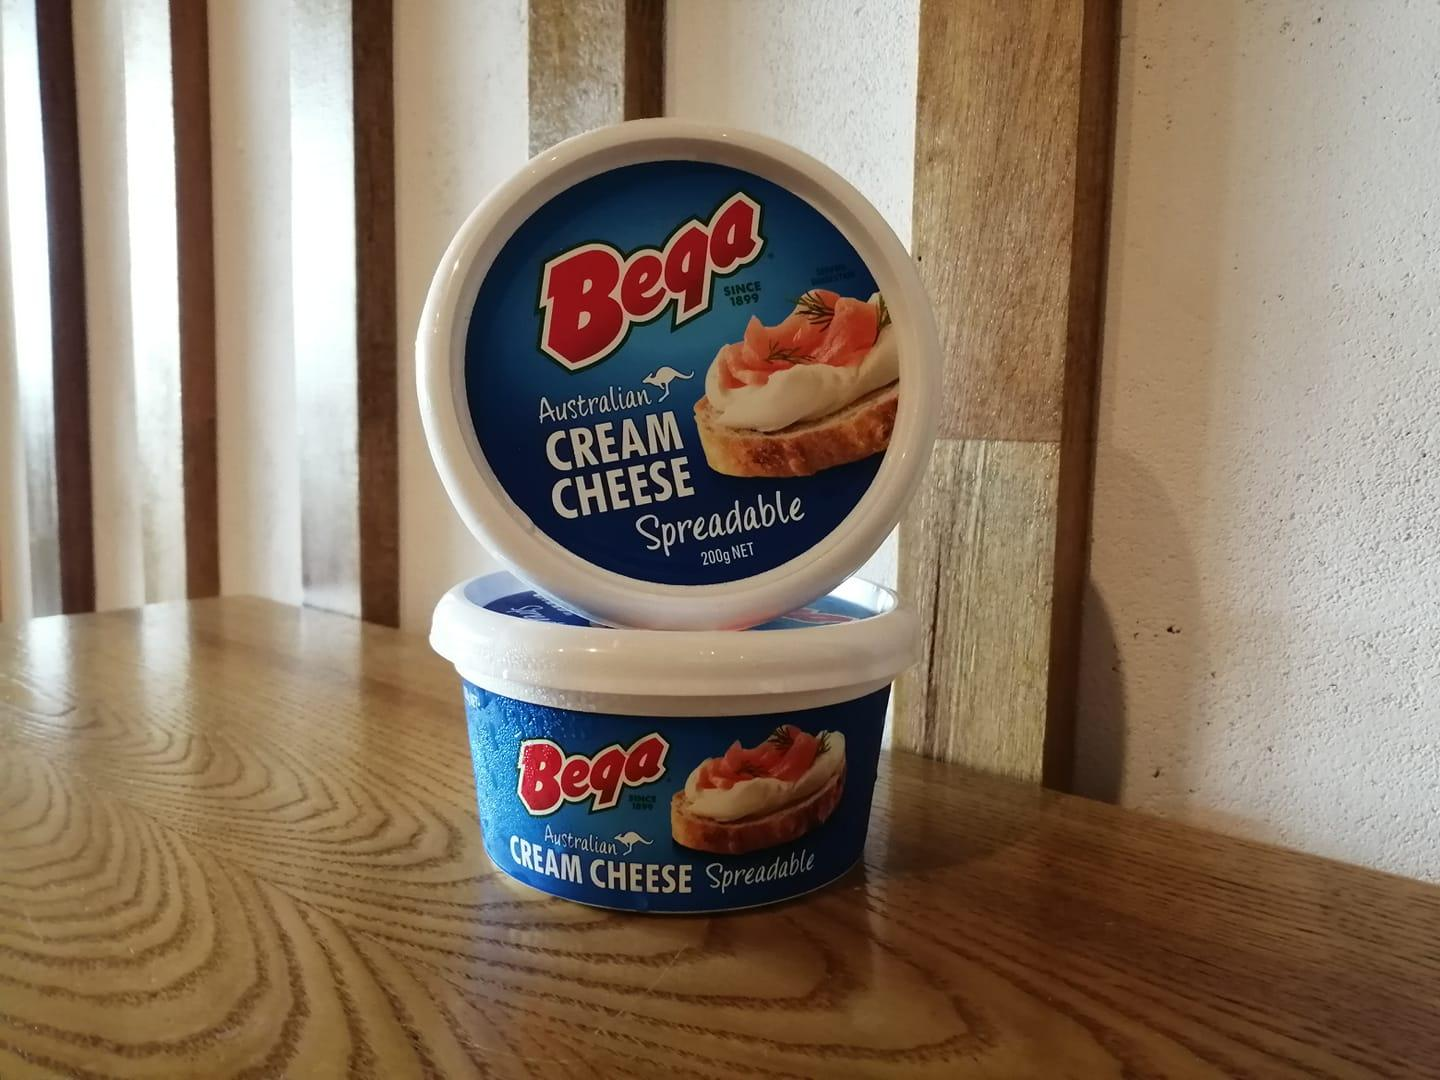plastic: (404, 113, 937, 625), (418, 569, 917, 925)
